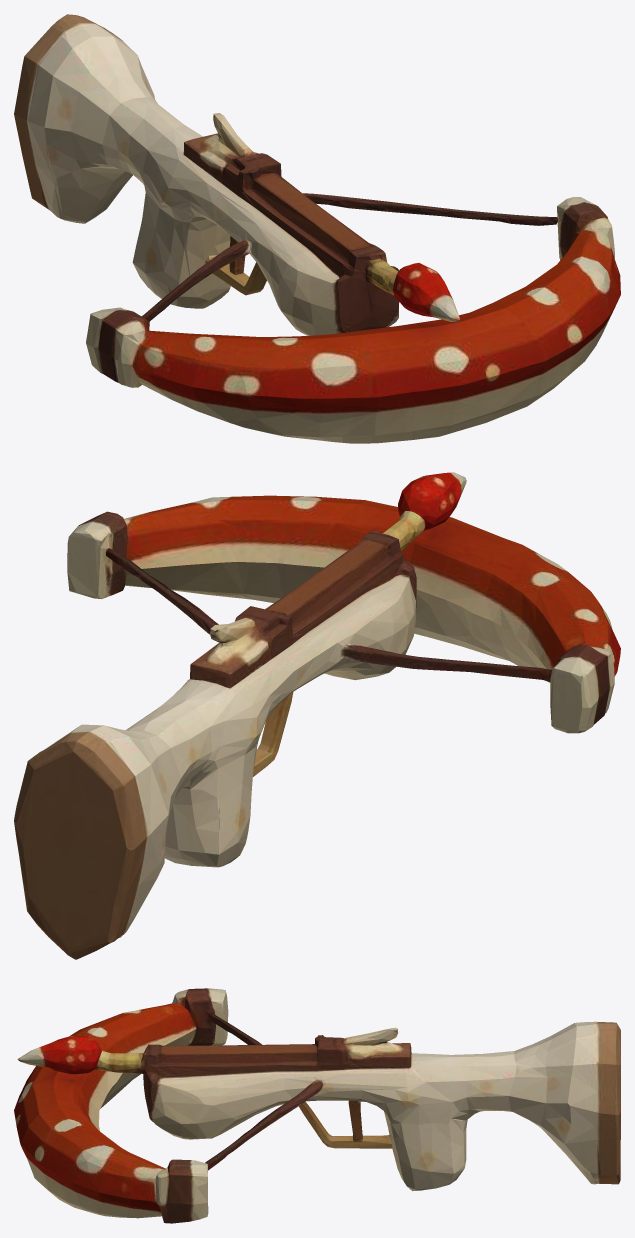
File: a_champignon_arbalete.glb
The picture shows the model from 3 angles, top to bottom: view 1: azimuth 30°, elevation 25°; view 2: azimuth 150°, elevation 25°; view 3: azimuth 270°, elevation 25°; orthographic projection. The views are drawn at different scales.
Visible parts, largest first — view 1: geometry_0; view 2: geometry_0; view 3: geometry_0.
Boxes of the visible parts, <box> form: geometry_0: <box>14,14,620,443</box>; geometry_0: <box>14,472,620,959</box>; geometry_0: <box>14,988,620,1223</box>.
Size of the model in its own units: 0.7535 by 0.2927 by 0.9959.
1 material, 1 textured.
